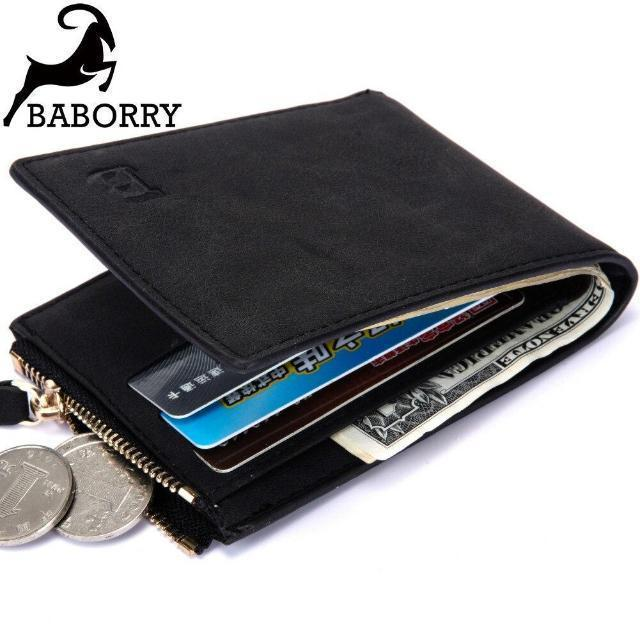wallet: (0, 86, 636, 552)
